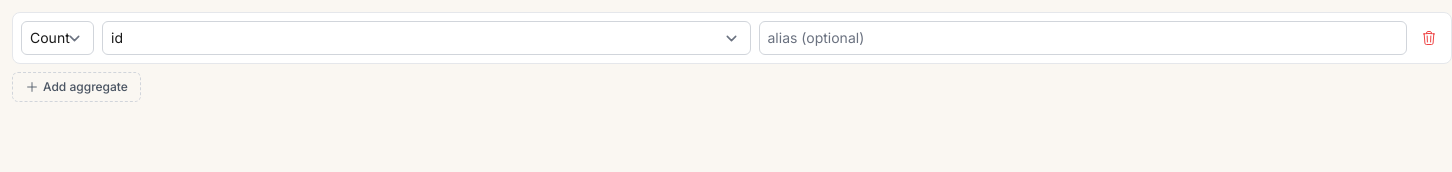
Test case: AggregateBuilder › removes a row when the trash button is clicked
Expected: the element with test id "aggregate-row-0" is shown, [12,12,1451,64]
Click the button with test id "aggregate-remove-0" at (1429, 38), box [1415,24,1443,52]
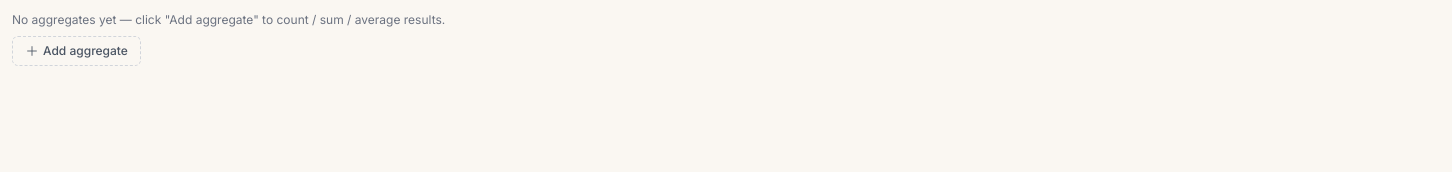
Result: the element with test id "aggregate-row-0" is gone
Result: the text with test id "aggregate-empty" is shown at [12,12,445,27]
